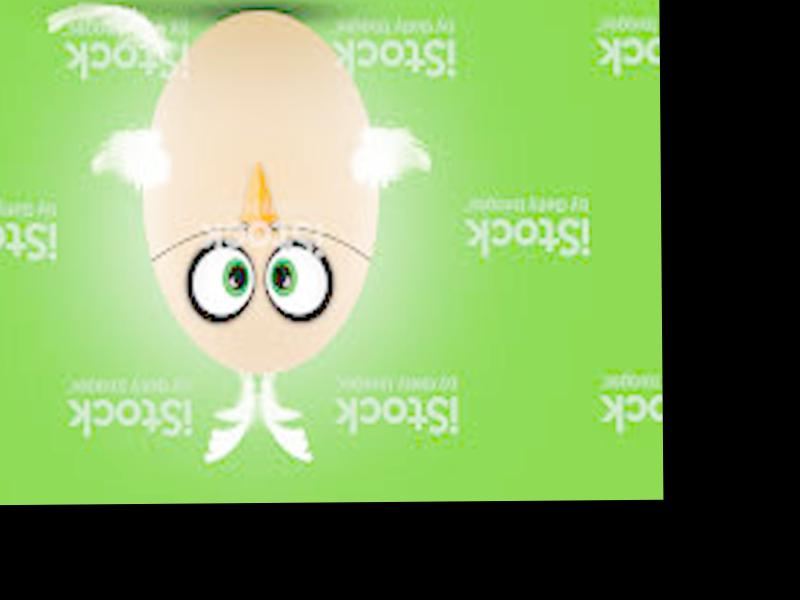Eggs: (141, 6, 376, 375)
